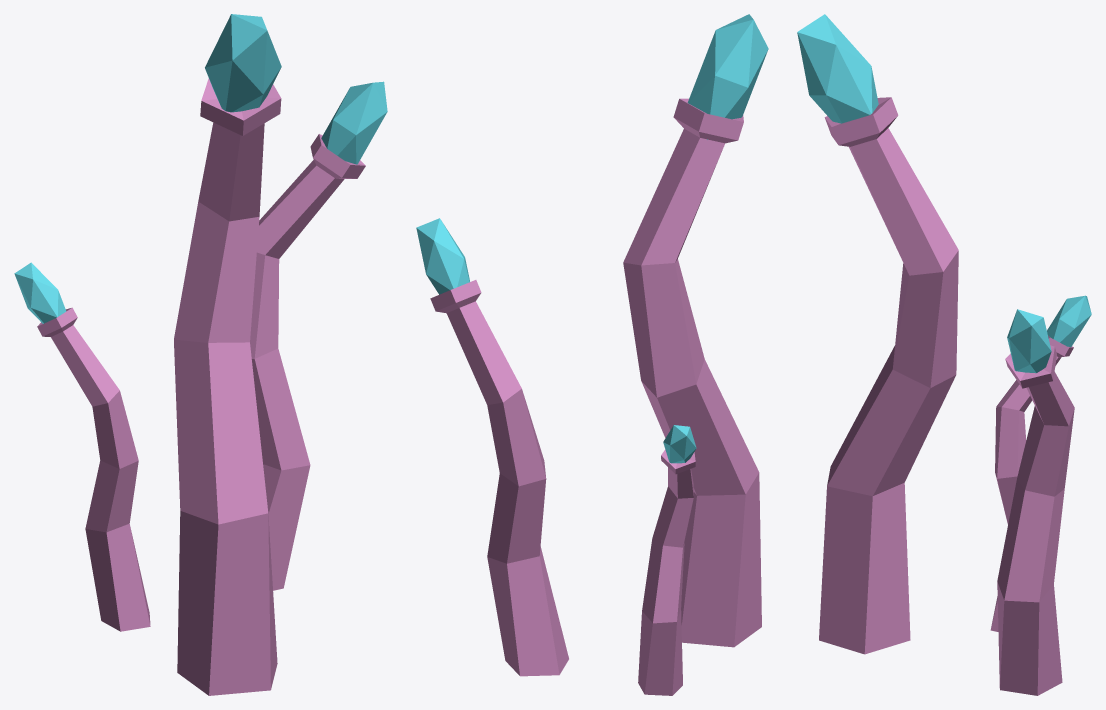
File: Mushroom_Grass_03.fbx
3 renders of one model, left to right at view 1: azimuth 30°, elevation 25°; view 2: azimuth 150°, elevation 25°; view 3: azimuth 270°, elevation 25°, orthographic. The views are drawn at different scales.
Parts seen in each view (by area): view 1: Vege_Grass_03; view 2: Vege_Grass_03; view 3: Vege_Grass_03.
Boxes of the visible parts, x1,y1,x2,y2 form: Vege_Grass_03: (14,14,387,695); Vege_Grass_03: (416,14,768,695); Vege_Grass_03: (797,14,1091,695).
Bounding box in the file's own units: 50.39 × 97.2 × 42.44.
